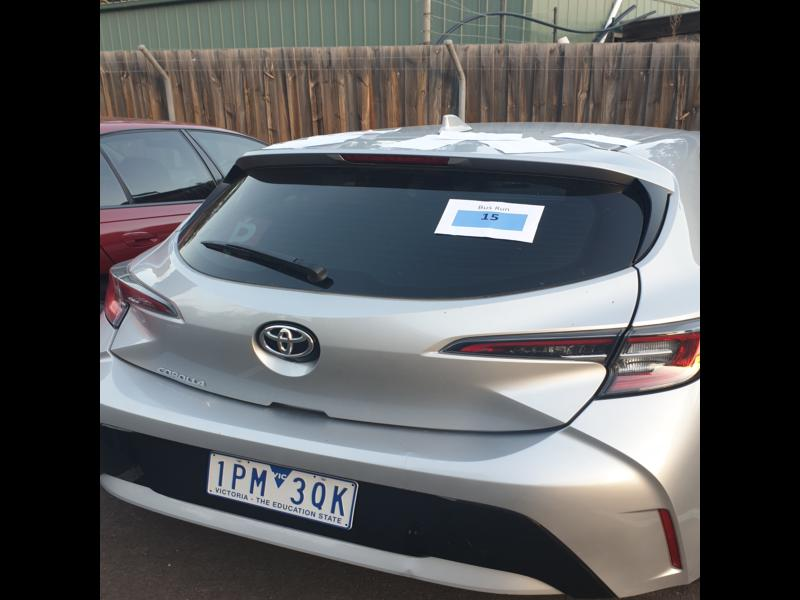BusRun: (450, 207, 529, 230)
PlateNo: (205, 448, 361, 533)
